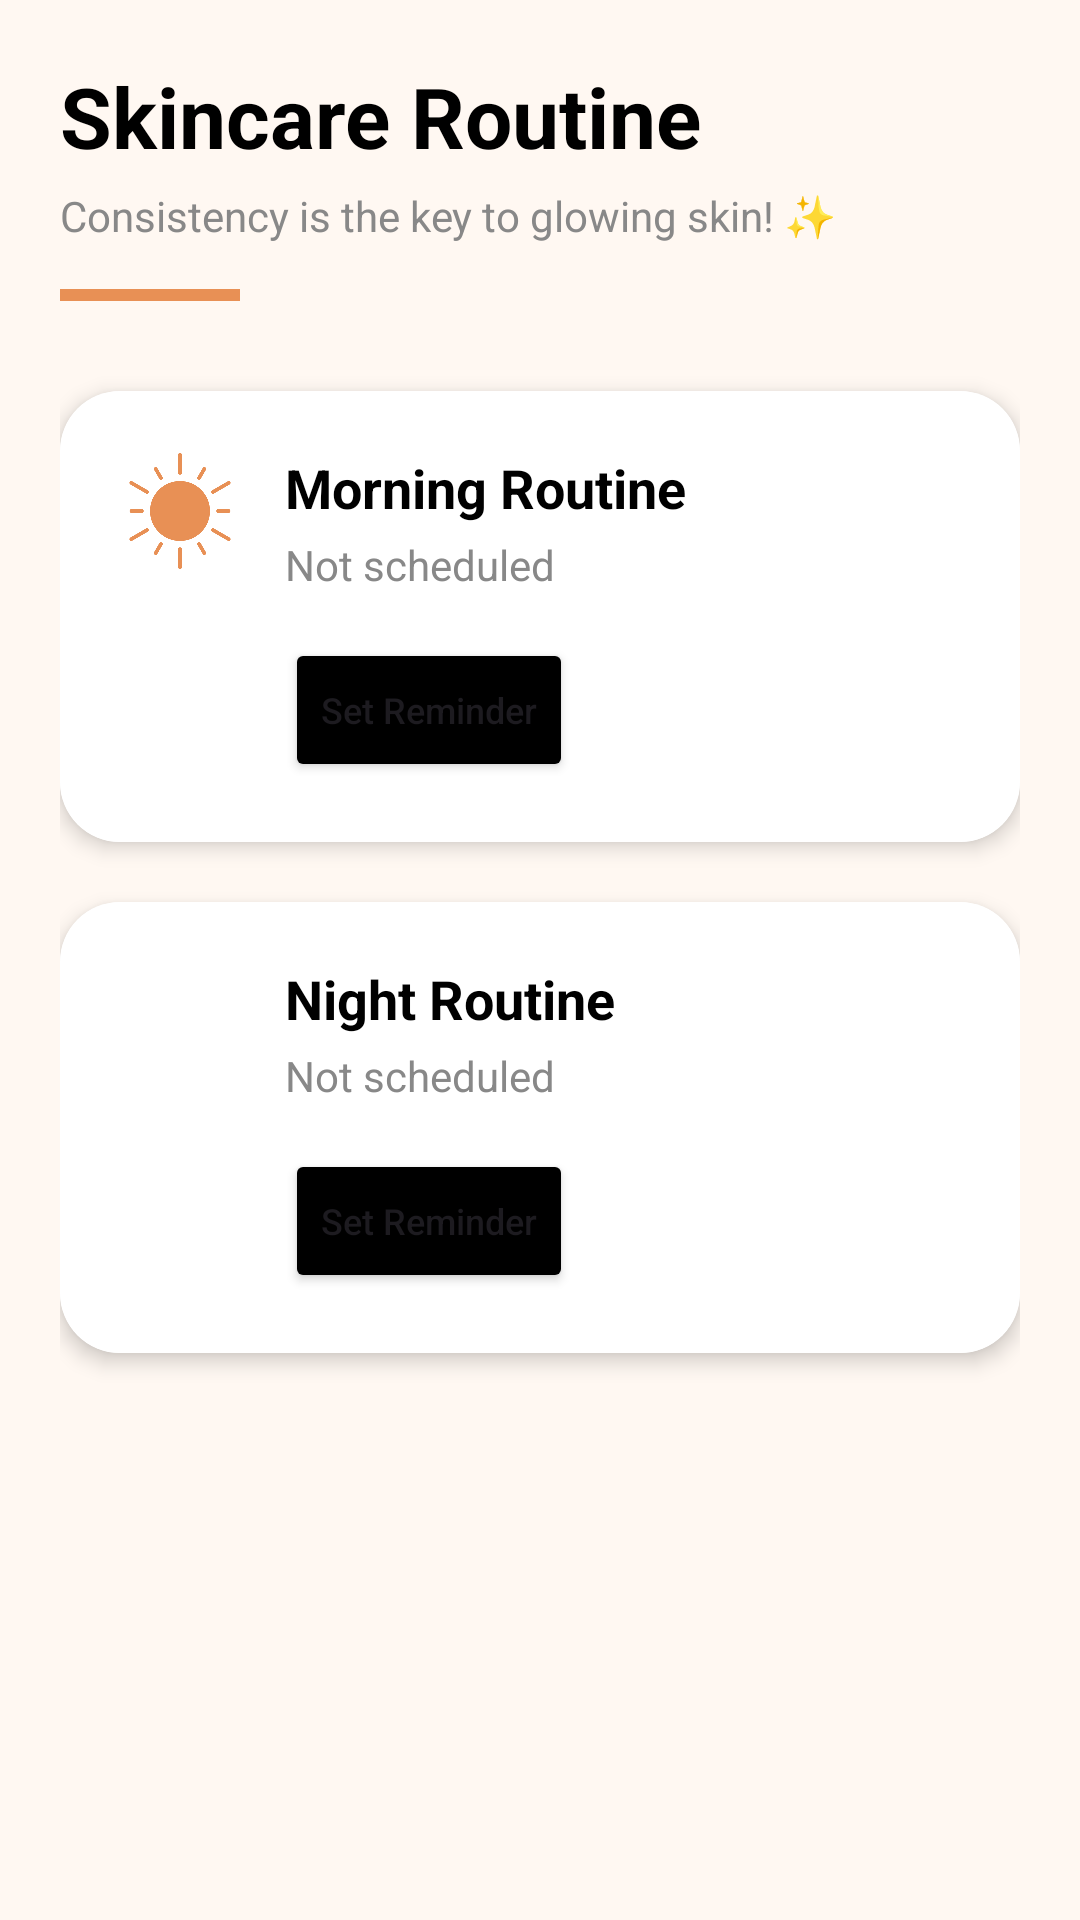

Screen size 1080×1920. Icon name, then its center in pixels as [x,y]:
sun: [180,511]
